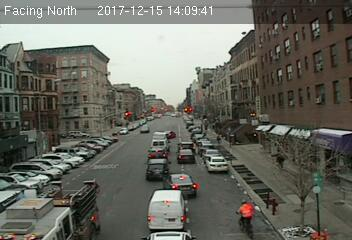bicycle: (235, 200, 257, 238)
car: (162, 172, 196, 195), (145, 158, 170, 180), (205, 154, 227, 170), (146, 146, 168, 160), (177, 149, 196, 164), (177, 140, 195, 150)
truck: (3, 182, 97, 240), (147, 188, 185, 228), (152, 133, 169, 151)
